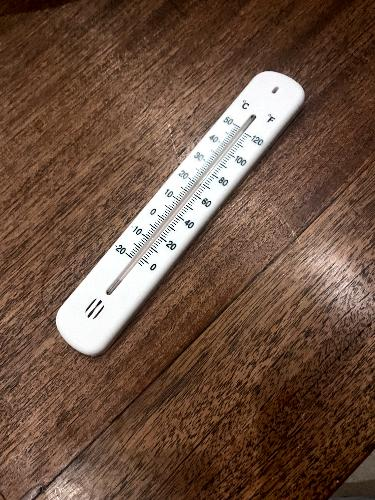thermo: (50, 58, 317, 360)
